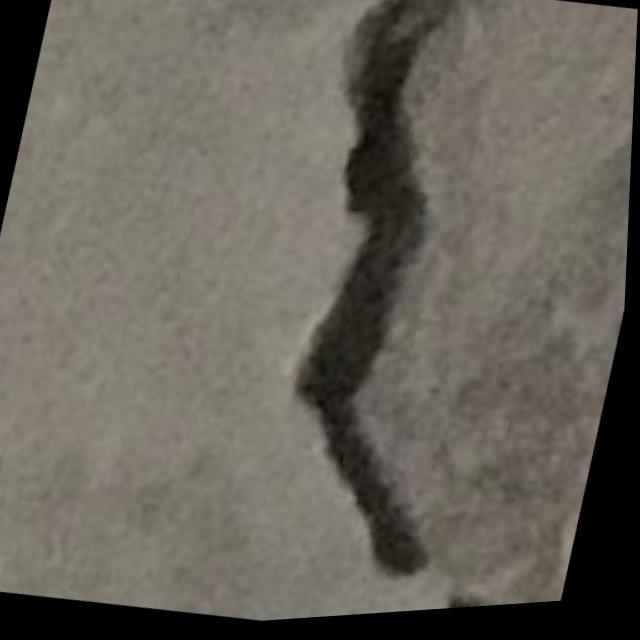Crack: (230, 0, 640, 627)
